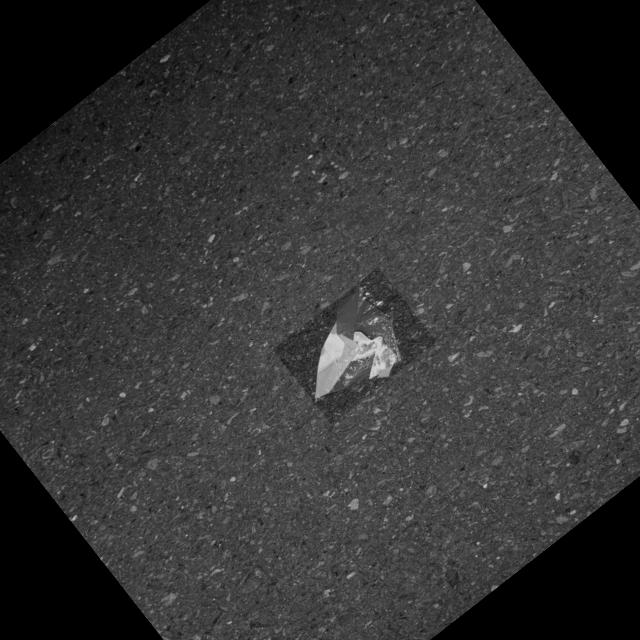Other plastic bottle: (273, 267, 437, 424)
